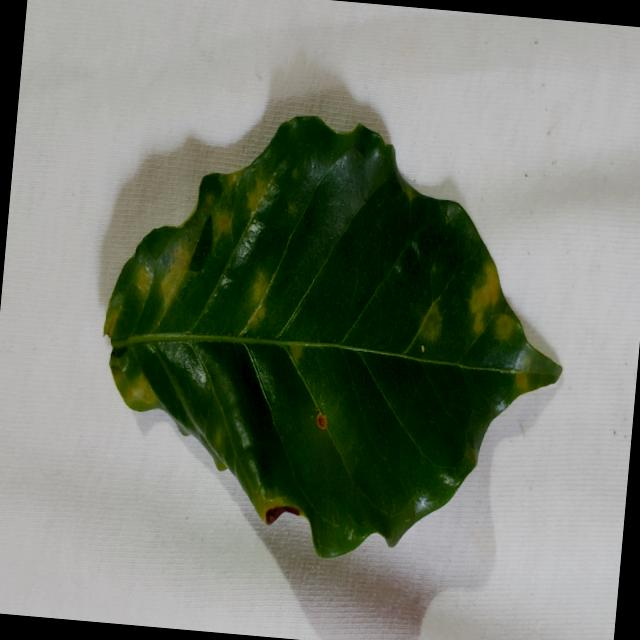KaratDaunKopi: (109, 348, 163, 412), (159, 235, 200, 310), (470, 261, 500, 333), (419, 301, 441, 341), (247, 179, 267, 213), (211, 209, 231, 242), (135, 266, 151, 299), (252, 271, 267, 305), (495, 314, 514, 339), (248, 304, 264, 327), (220, 170, 242, 186), (515, 372, 528, 391), (316, 412, 326, 429)
